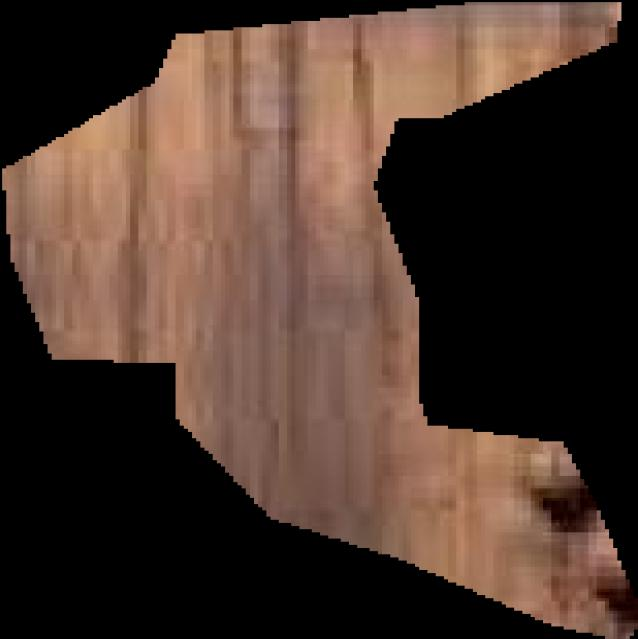Uniform Corrosion: (1, 1, 638, 639)
